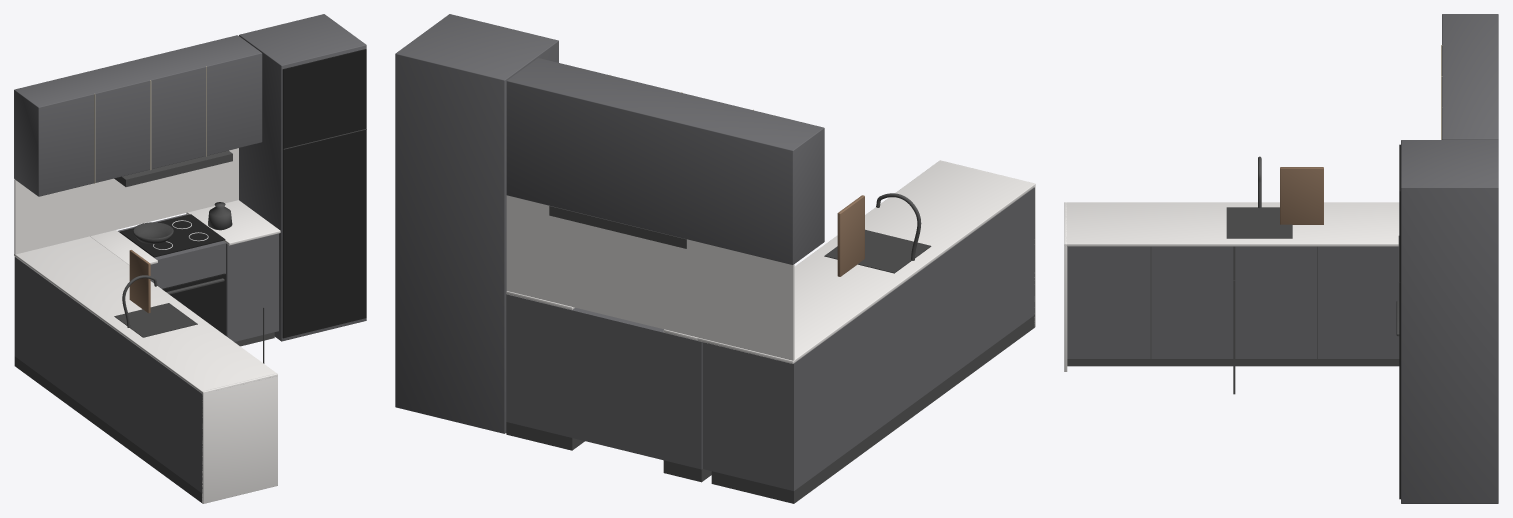
Rendered from it_kitchen_set.glb.
3 views of the same model, side by side, from view 1: azimuth 30°, elevation 25°; view 2: azimuth 150°, elevation 25°; view 3: azimuth 270°, elevation 25° (orthographic). The views are drawn at different scales.
Parts seen in each view (by area): view 1: upper, fdoor, base_w, top_w, splash, fridge, endpanel, base_n1, rangebody, plinth_w, hob, ovendoor (+7 smaller); view 2: fridge, upper, base_w, splash, top_w, rangebody, base_n1, base_n0, plinth_w, sink, board, hood (+1 smaller); view 3: base_w, fridge, top_w, upper, plinth_w, board, sink, fdoor, endpanel.
Boxes of the visible parts, x1=… form: upper: x1=14, y1=35, x2=262, y2=196; fdoor: x1=282, y1=49, x2=366, y2=338; base_w: x1=14, y1=257, x2=202, y2=493; top_w: x1=14, y1=236, x2=277, y2=393; splash: x1=14, y1=148, x2=238, y2=254; fridge: x1=239, y1=14, x2=366, y2=341; endpanel: x1=202, y1=373, x2=277, y2=503; base_n1: x1=186, y1=214, x2=278, y2=341; rangebody: x1=118, y1=214, x2=225, y2=288; plinth_w: x1=14, y1=356, x2=202, y2=503; hob: x1=119, y1=214, x2=225, y2=257; ovendoor: x1=162, y1=273, x2=225, y2=335; fridge: x1=395, y1=14, x2=558, y2=433; upper: x1=506, y1=58, x2=824, y2=264; base_w: x1=702, y1=187, x2=1034, y2=490; splash: x1=506, y1=195, x2=794, y2=360; top_w: x1=697, y1=160, x2=1035, y2=363; rangebody: x1=572, y1=308, x2=663, y2=460; base_n1: x1=506, y1=294, x2=574, y2=437; base_n0: x1=663, y1=332, x2=702, y2=469; plinth_w: x1=711, y1=315, x2=1034, y2=503; sink: x1=824, y1=229, x2=931, y2=273; board: x1=837, y1=195, x2=864, y2=276; hood: x1=549, y1=206, x2=686, y2=248; base_w: x1=1067, y1=246, x2=1399, y2=358; fridge: x1=1401, y1=140, x2=1498, y2=503; top_w: x1=1064, y1=202, x2=1399, y2=246; upper: x1=1442, y1=14, x2=1498, y2=139; plinth_w: x1=1067, y1=359, x2=1399, y2=366; board: x1=1280, y1=167, x2=1323, y2=224; sink: x1=1226, y1=207, x2=1292, y2=238; fdoor: x1=1399, y1=144, x2=1400, y2=499; endpanel: x1=1064, y1=202, x2=1067, y2=371.
Bounding box in the file's own units: 2.61 × 2.22 × 2.76.
